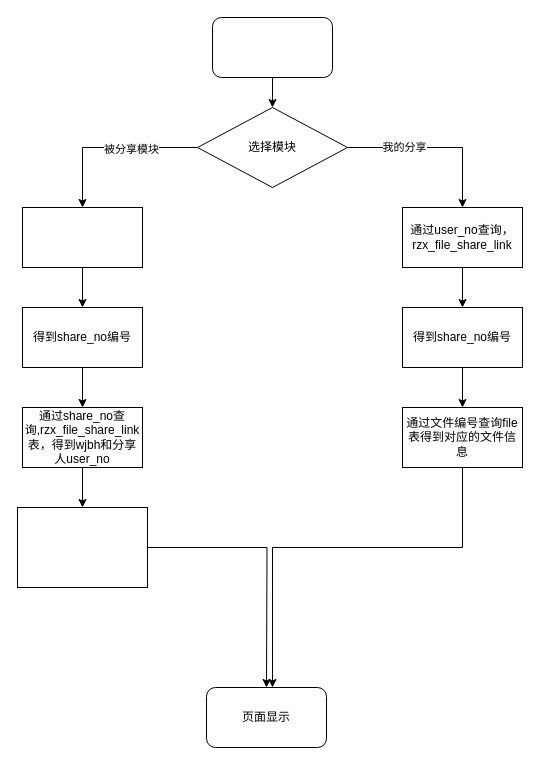
Some shapes in this 540 by 765 pixel diagram are drawn without their labels. The centre of each missing label's shape, as x and y in pixels:
"后台根据用户查询rzx_share_to_users" belongs at (x=82, y=237).
"被分享用户打开分享模块" belongs at (x=272, y=47).
"通过user_no查询user表获取分表号，根据分表号和wjbh查询file表得到对应的文件信息" belongs at (x=82, y=547).
